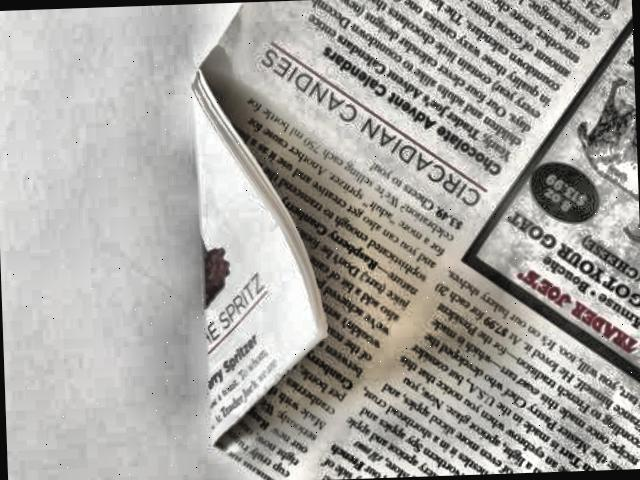Paper: (188, 0, 640, 480)
